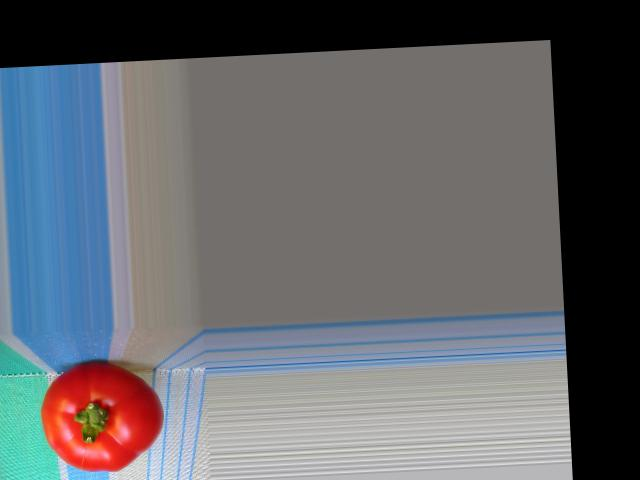tomato: (38, 358, 165, 475)
